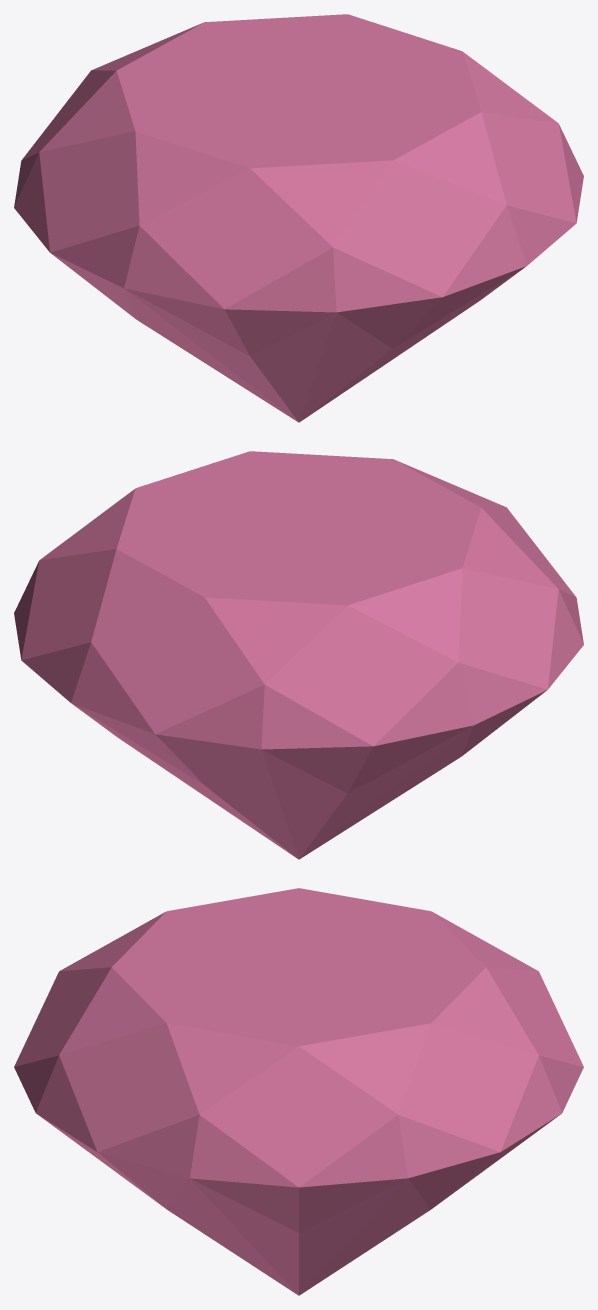
The model's file is gem1.fbx.
3 renders of one model, top to bottom at view 1: azimuth 30°, elevation 25°; view 2: azimuth 150°, elevation 25°; view 3: azimuth 270°, elevation 25°, orthographic.
Parts seen in each view (by area): view 1: Cylinder001; view 2: Cylinder001; view 3: Cylinder001.
Boxes of the visible parts, x1=… form: Cylinder001: x1=14, y1=14, x2=583, y2=422; Cylinder001: x1=14, y1=451, x2=583, y2=859; Cylinder001: x1=14, y1=888, x2=583, y2=1295.
Bounding box in the file's own units: 200 × 200 × 127.
Materials: 1 (1 with a texture image).
